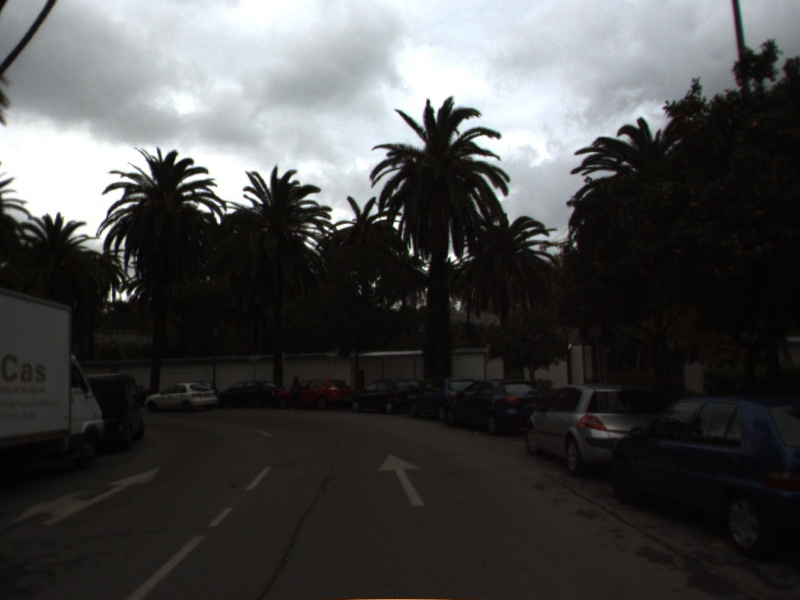STRAIGHT: (375, 452, 426, 508)
STRAIGHT_LEFT: (7, 464, 164, 528)
